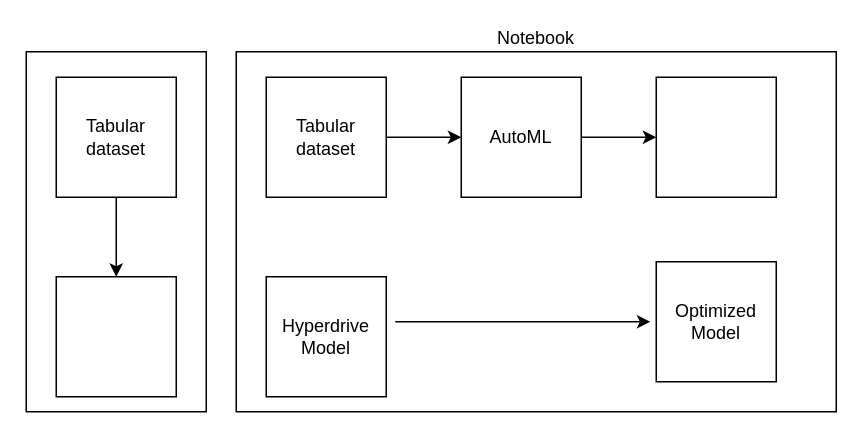
Image size: 863x438. Some labels were removed from this diagram. Each missing label, with the box of its shape:
AutoML Model: (655, 76, 776, 197)
Scikit-learn Logistic Regression: (55, 275, 176, 397)
training.py: (25, 50, 206, 412)
